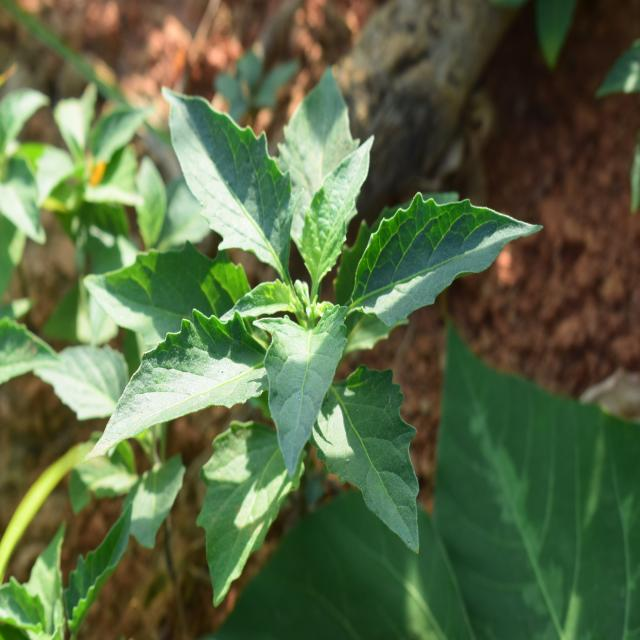Black_nightshade: (122, 91, 508, 538)
